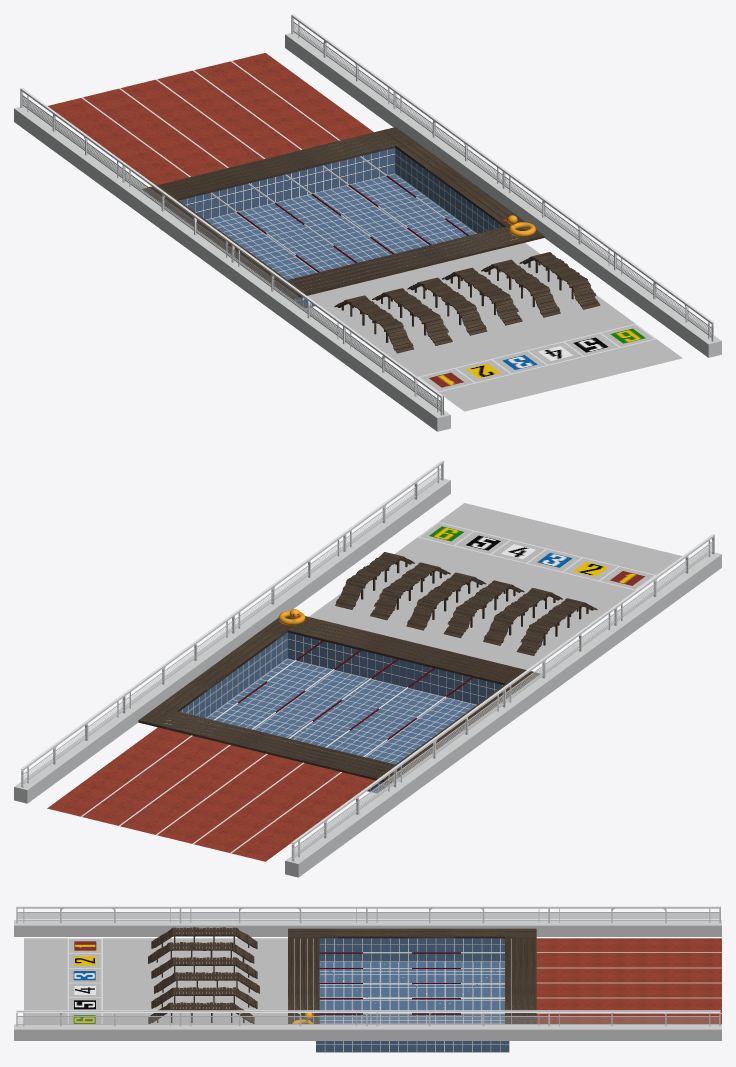
File: M_Dpaodao01.FBX
3 renders of one model, top to bottom at view 1: azimuth 30°, elevation 25°; view 2: azimuth 150°, elevation 25°; view 3: azimuth 270°, elevation 25°, orthographic. The views are drawn at different scales.
Parts seen in each view (by area): view 1: M_Dpaodao01_06, M_Dpaodao01_07, M_Dpaodao01_01, M_Dpaodao01_05, M_Dpaodao01_08, M_Dpaodao01_09, M_Dpaodao01_02, M_Dpaodao01_11, M_Dpaodao01_04; view 2: M_Dpaodao01_06, M_Dpaodao01_01, M_Dpaodao01_07, M_Dpaodao01_05, M_Dpaodao01_08, M_Dpaodao01_09, M_Dpaodao01_02, M_Dpaodao01_11, M_Dpaodao01_04; view 3: M_Dpaodao01_08, M_Dpaodao01_09, M_Dpaodao01_05, M_Dpaodao01_06, M_Dpaodao01_01, M_Dpaodao01_07, M_Dpaodao01_02, M_Dpaodao01_04, M_Dpaodao01_11.
Part boxes in pixels (x1=…): M_Dpaodao01_06: x1=307, y1=243, x2=682, y2=411; M_Dpaodao01_07: x1=142, y1=127, x2=600, y2=353; M_Dpaodao01_01: x1=48, y1=53, x2=373, y2=185; M_Dpaodao01_05: x1=179, y1=148, x2=509, y2=308; M_Dpaodao01_08: x1=14, y1=31, x2=721, y2=431; M_Dpaodao01_09: x1=20, y1=14, x2=714, y2=415; M_Dpaodao01_02: x1=81, y1=61, x2=656, y2=392; M_Dpaodao01_11: x1=429, y1=328, x2=645, y2=387; M_Dpaodao01_04: x1=210, y1=156, x2=535, y2=272; M_Dpaodao01_06: x1=309, y1=503, x2=682, y2=669; M_Dpaodao01_01: x1=47, y1=727, x2=375, y2=861; M_Dpaodao01_07: x1=138, y1=552, x2=597, y2=783; M_Dpaodao01_05: x1=173, y1=632, x2=503, y2=793; M_Dpaodao01_08: x1=14, y1=477, x2=721, y2=877; M_Dpaodao01_09: x1=21, y1=460, x2=714, y2=861; M_Dpaodao01_02: x1=81, y1=522, x2=656, y2=853; M_Dpaodao01_11: x1=429, y1=526, x2=644, y2=585; M_Dpaodao01_04: x1=210, y1=609, x2=472, y2=756; M_Dpaodao01_08: x1=14, y1=920, x2=721, y2=1040; M_Dpaodao01_09: x1=16, y1=906, x2=720, y2=1026; M_Dpaodao01_05: x1=316, y1=938, x2=509, y2=1052; M_Dpaodao01_06: x1=24, y1=938, x2=287, y2=1023; M_Dpaodao01_01: x1=536, y1=938, x2=721, y2=1024; M_Dpaodao01_07: x1=148, y1=927, x2=536, y2=1023; M_Dpaodao01_02: x1=67, y1=938, x2=721, y2=1023; M_Dpaodao01_04: x1=292, y1=952, x2=504, y2=1023; M_Dpaodao01_11: x1=73, y1=941, x2=96, y2=1023.
Bounding box in the file's own units: 14.82 × 3.05 × 38.19.
